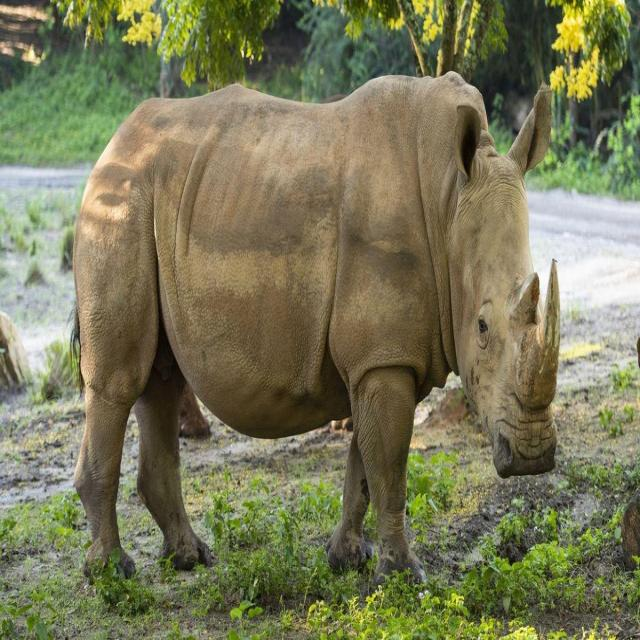Rinoceros: (33, 67, 609, 604)
